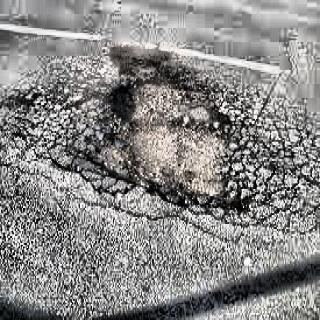alligator-crack: (12, 58, 103, 178), (249, 106, 320, 238)
pothole: (83, 68, 250, 212)
